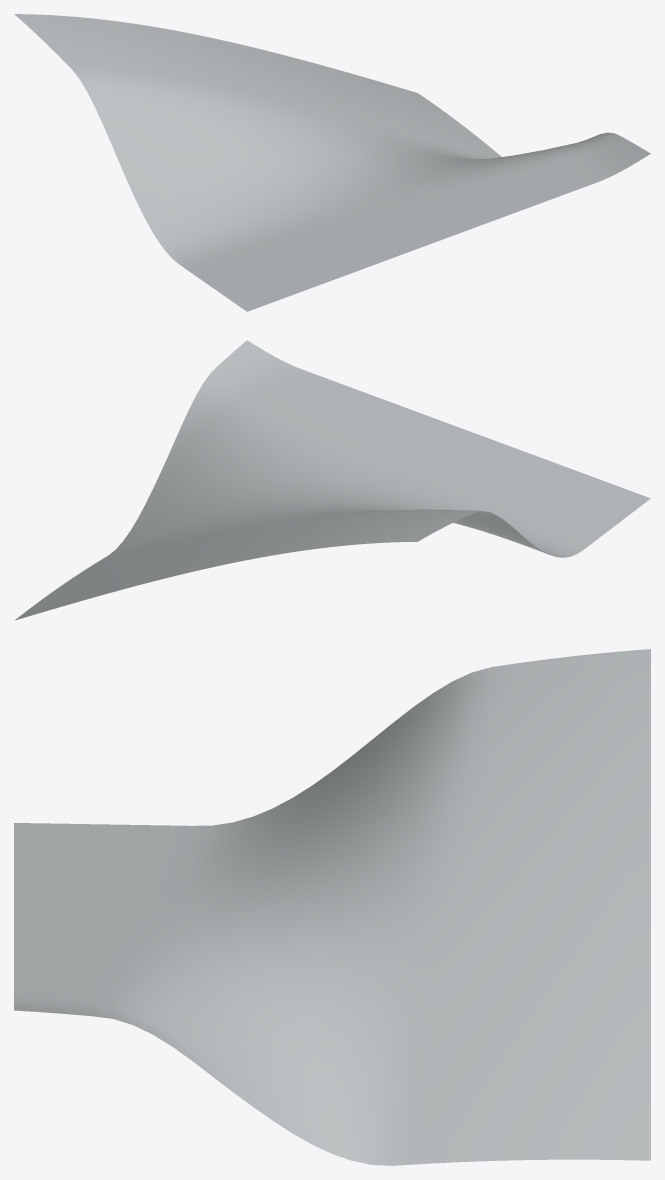
File: alpine-10-2.glb
The picture shows the model from 3 angles, top to bottom: view 1: azimuth 30°, elevation 25°; view 2: azimuth 150°, elevation 25°; view 3: azimuth 270°, elevation 25°; orthographic projection. The views are drawn at different scales.
Parts seen in each view (by area): view 1: alpine-10-2; view 2: alpine-10-2; view 3: alpine-10-2.
Part boxes in pixels (x1,y1,x2,y2): alpine-10-2: (14,14,650,311); alpine-10-2: (14,340,650,620); alpine-10-2: (14,649,650,1165).
Bounding box in the file's own units: 256 × 110 × 256.
1 material, 1 textured.
